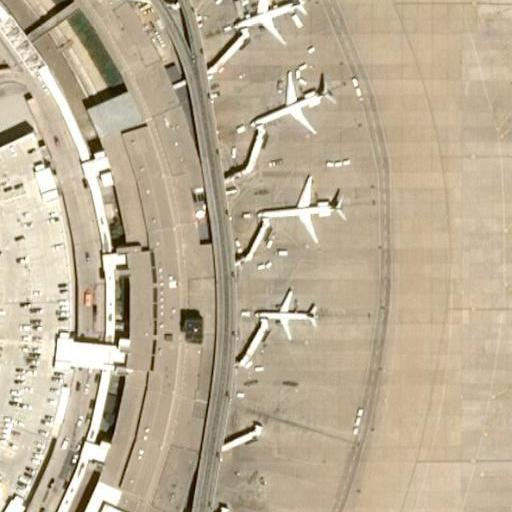Aircraft: (258, 170, 341, 243), (249, 72, 325, 136), (251, 284, 317, 341), (229, 0, 305, 40)
